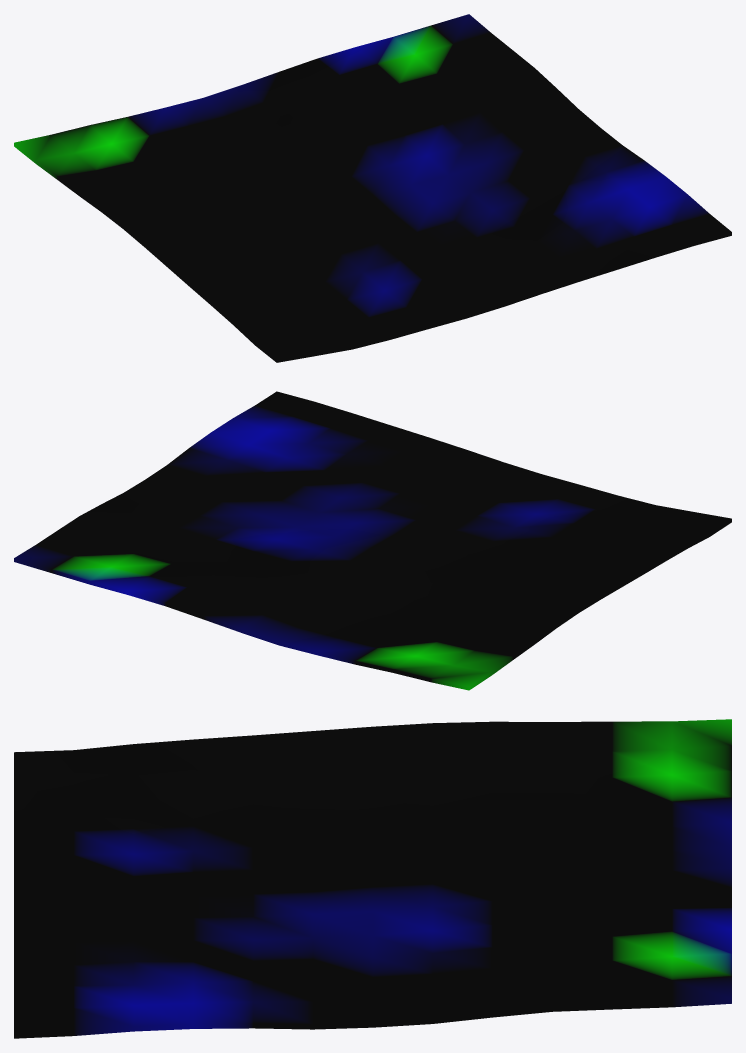
The model's file is coast_10_2.glb.
3 views of the same model, one above another, from view 1: azimuth 30°, elevation 25°; view 2: azimuth 150°, elevation 25°; view 3: azimuth 270°, elevation 25° (orthographic). The views are drawn at different scales.
Parts seen in each view (by area): view 1: terrain; view 2: terrain; view 3: terrain.
Boxes of the visible parts, left/top/right/bottom form: terrain: left=14, top=14, right=731, bottom=362; terrain: left=14, top=391, right=731, bottom=690; terrain: left=14, top=719, right=731, bottom=1038.
Bounding box in the file's own units: 192 × 20.35 × 192.
